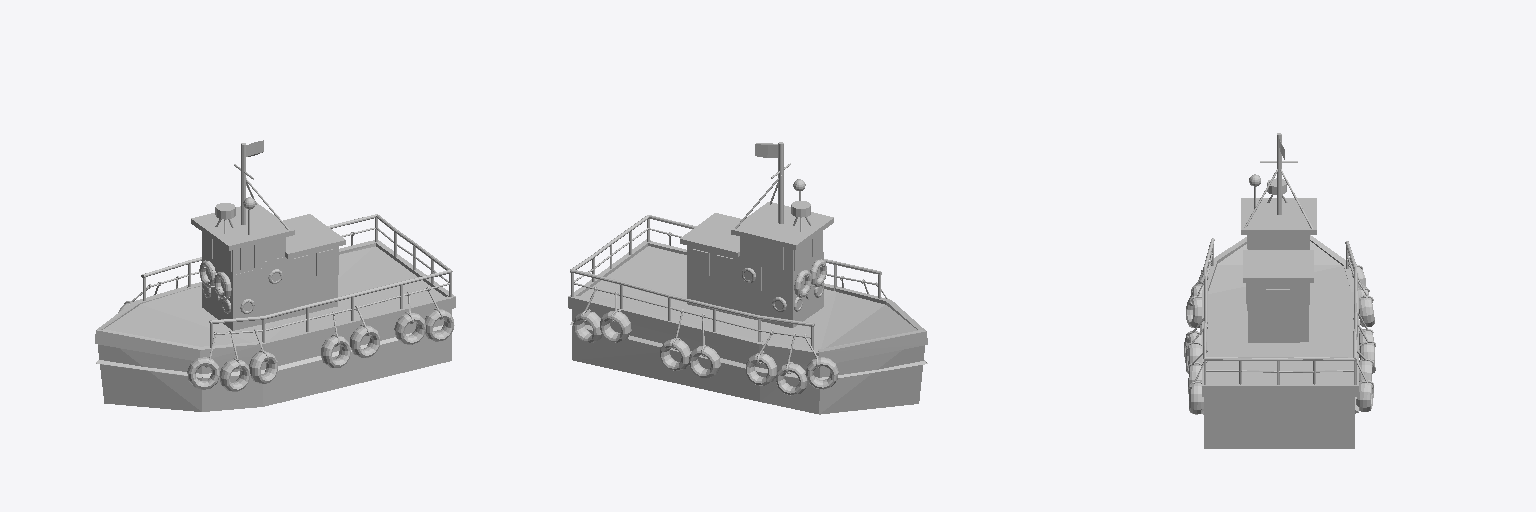
The model's file is boat.obj.
3 renders of one model, left to right at view 1: azimuth 30°, elevation 25°; view 2: azimuth 150°, elevation 25°; view 3: azimuth 270°, elevation 25°, orthographic.
Bounding box in the file's own units: 3.86 × 2.65 × 2.